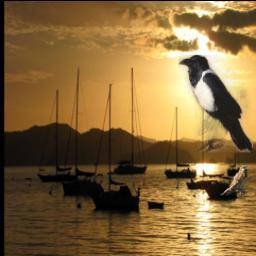Crow: (178, 55, 253, 152)
Sparrow: (220, 165, 248, 196)
